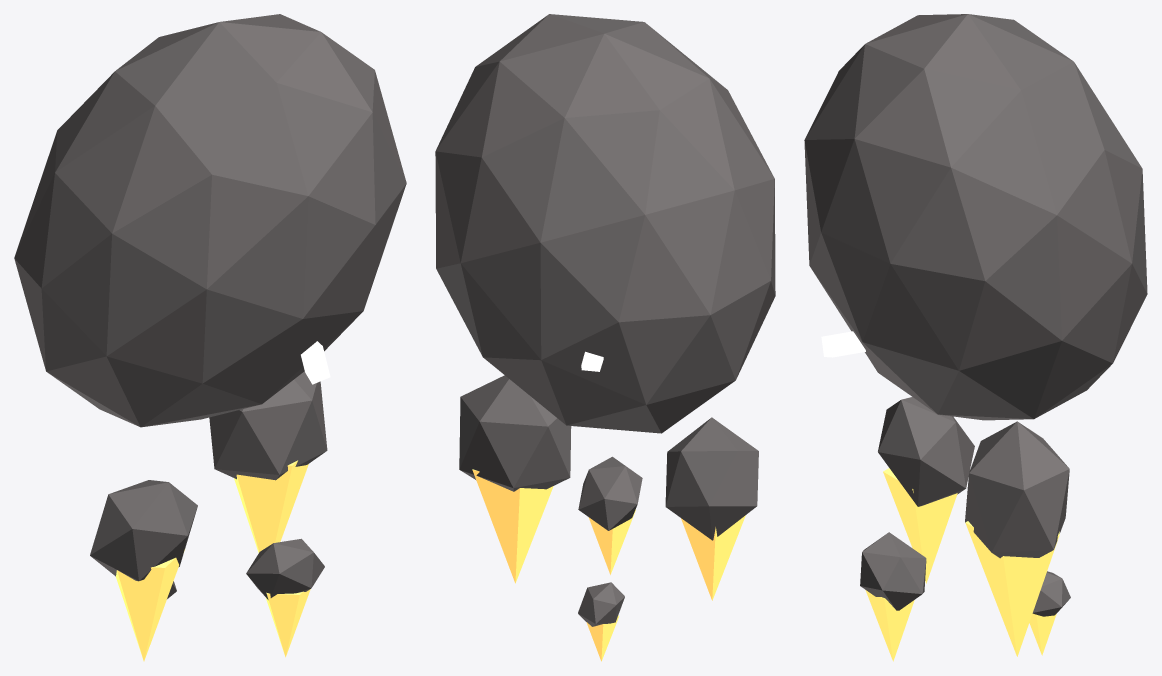
The model's file is meteor.glb.
The picture shows the model from 3 angles, left to right: view 1: azimuth 30°, elevation 25°; view 2: azimuth 150°, elevation 25°; view 3: azimuth 270°, elevation 25°; orthographic projection. The views are drawn at different scales.
Parts seen in each view (by area): view 1: MeteorStone, BreakawayRock_0, BreakawayRock_1, BreakawayFlame_0, BreakawayRock_2, BreakawayFlame_1, BreakawayFlame_2, LavaCrack_2; view 2: MeteorStone, BreakawayRock_0, BreakawayRock_1, BreakawayFlame_0, BreakawayRock_2, BreakawayFlame_1, BreakawayRock_3, BreakawayFlame_2, BreakawayFlame_3; view 3: MeteorStone, BreakawayRock_0, BreakawayRock_1, BreakawayFlame_0, BreakawayRock_2, BreakawayFlame_1, BreakawayFlame_2, BreakawayRock_3, LavaCrack_2, BreakawayFlame_3.
Boxes of the visible parts, x1,y1,x2,y2 form: MeteorStone: (14,14,406,427); BreakawayRock_0: (209,371,327,480); BreakawayRock_1: (90,480,197,581); BreakawayFlame_0: (234,460,308,552); BreakawayRock_2: (246,538,324,599); BreakawayFlame_1: (116,549,184,661); BreakawayFlame_2: (265,589,310,657); LavaCrack_2: (301,341,330,384); MeteorStone: (435,14,775,433); BreakawayRock_0: (459,375,571,491); BreakawayRock_1: (665,417,758,540); BreakawayFlame_0: (472,469,553,583); BreakawayRock_2: (578,456,642,530); BreakawayFlame_1: (681,515,745,600); BreakawayRock_3: (578,582,624,626); BreakawayFlame_2: (588,509,635,574); BreakawayFlame_3: (586,615,619,661); MeteorStone: (804,14,1147,420); BreakawayRock_0: (965,421,1069,558); BreakawayRock_1: (878,397,974,506); BreakawayFlame_0: (965,521,1059,656); BreakawayRock_2: (860,532,926,610); BreakawayFlame_1: (883,468,957,583); BreakawayFlame_2: (865,590,914,661); BreakawayRock_3: (1032,571,1070,616); LavaCrack_2: (821,331,865,357); BreakawayFlame_3: (1029,613,1056,655).
Bounding box in the file's own units: 0.9947 × 1.76 × 0.8295.
